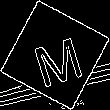M_N: (25, 24, 85, 86)
